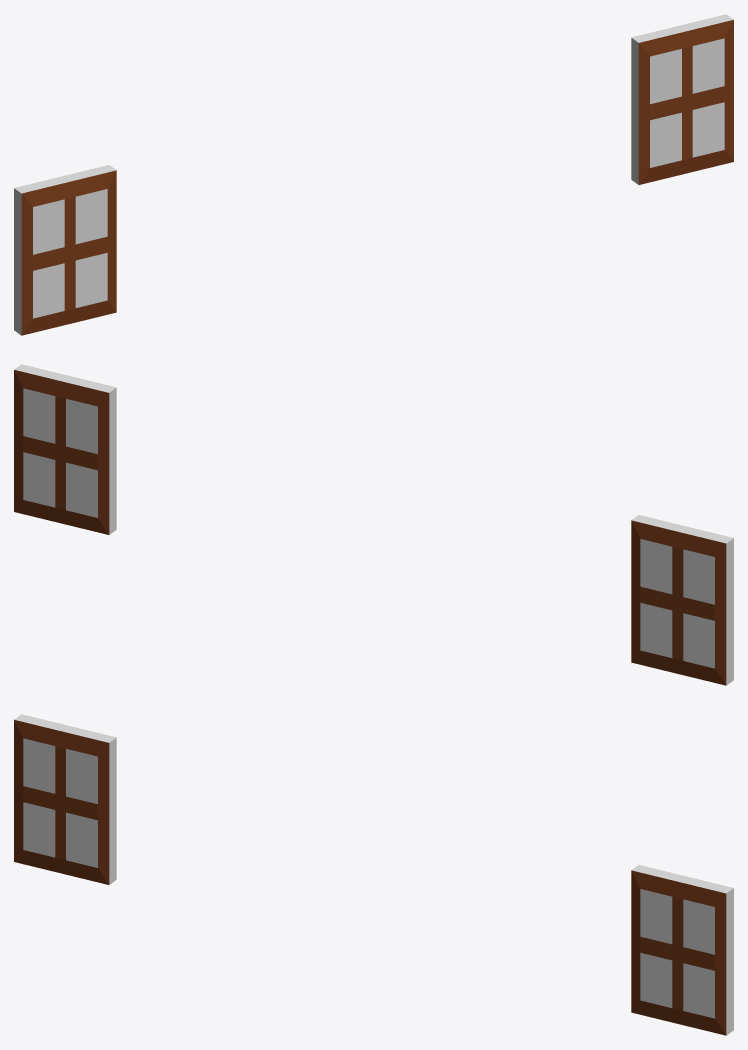
The model's file is windows.fbx.
The picture shows the model from 3 angles, top to bottom: view 1: azimuth 30°, elevation 25°; view 2: azimuth 150°, elevation 25°; view 3: azimuth 330°, elevation 25°; orthographic projection.
Parts seen in each view (by area): view 1: window, window.001; view 2: window, window.001; view 3: window, window.001.
Part boxes in pixels (box(x1,y1,x2,y2)): window: box(631, 14, 733, 184); window.001: box(14, 165, 116, 335); window: box(14, 364, 116, 534); window.001: box(631, 515, 733, 685); window: box(631, 865, 733, 1035); window.001: box(14, 714, 116, 884).
Bounding box in the file's own units: 2333 × 445 × 54.55.
